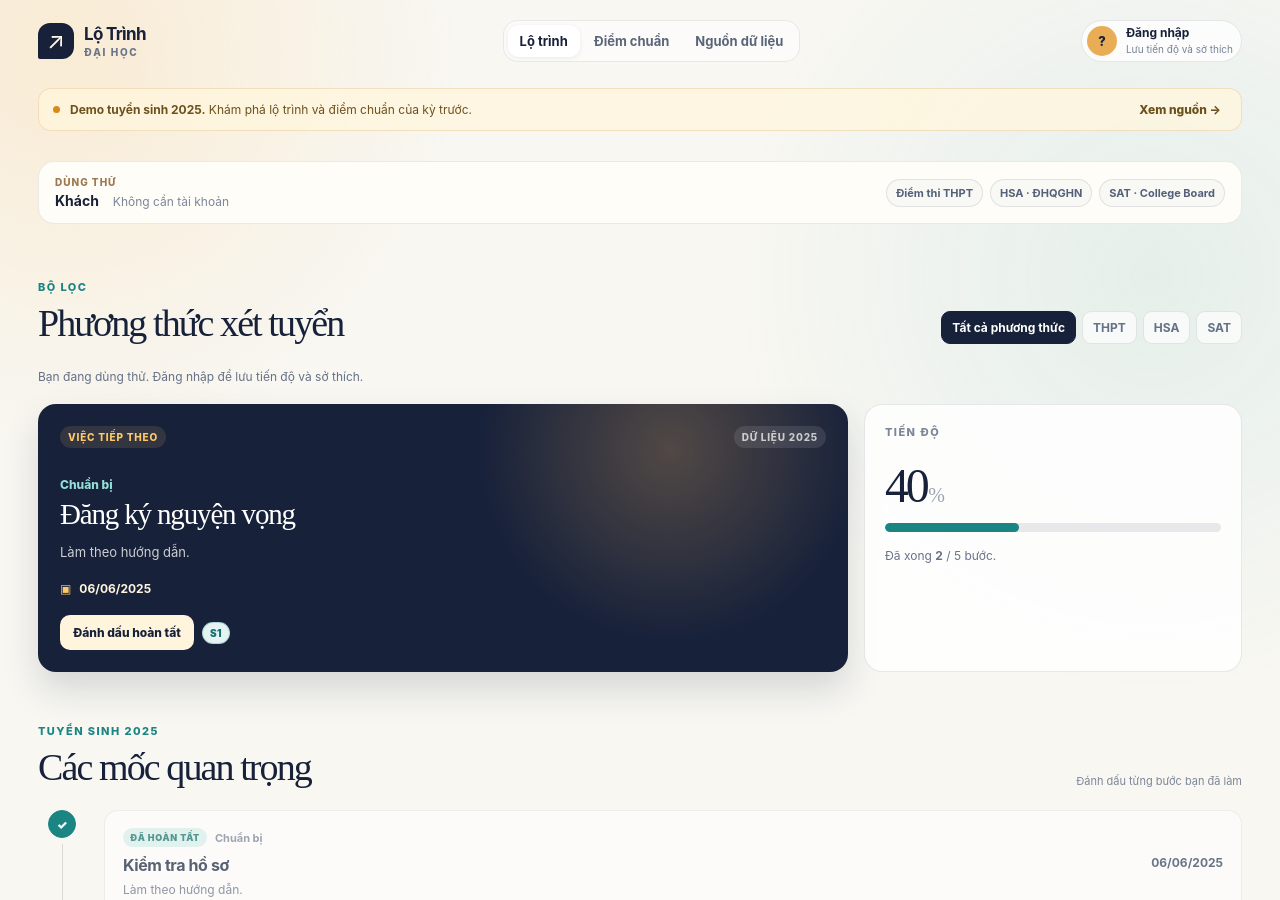
it: admissions demo flows › shows sources without irrelevant route filters and preserves the score view when filtering
The width and height of the screenshot is (1280, 900).
Click the button "Điểm chuẩn" at (632, 41), box [582, 25, 681, 57]
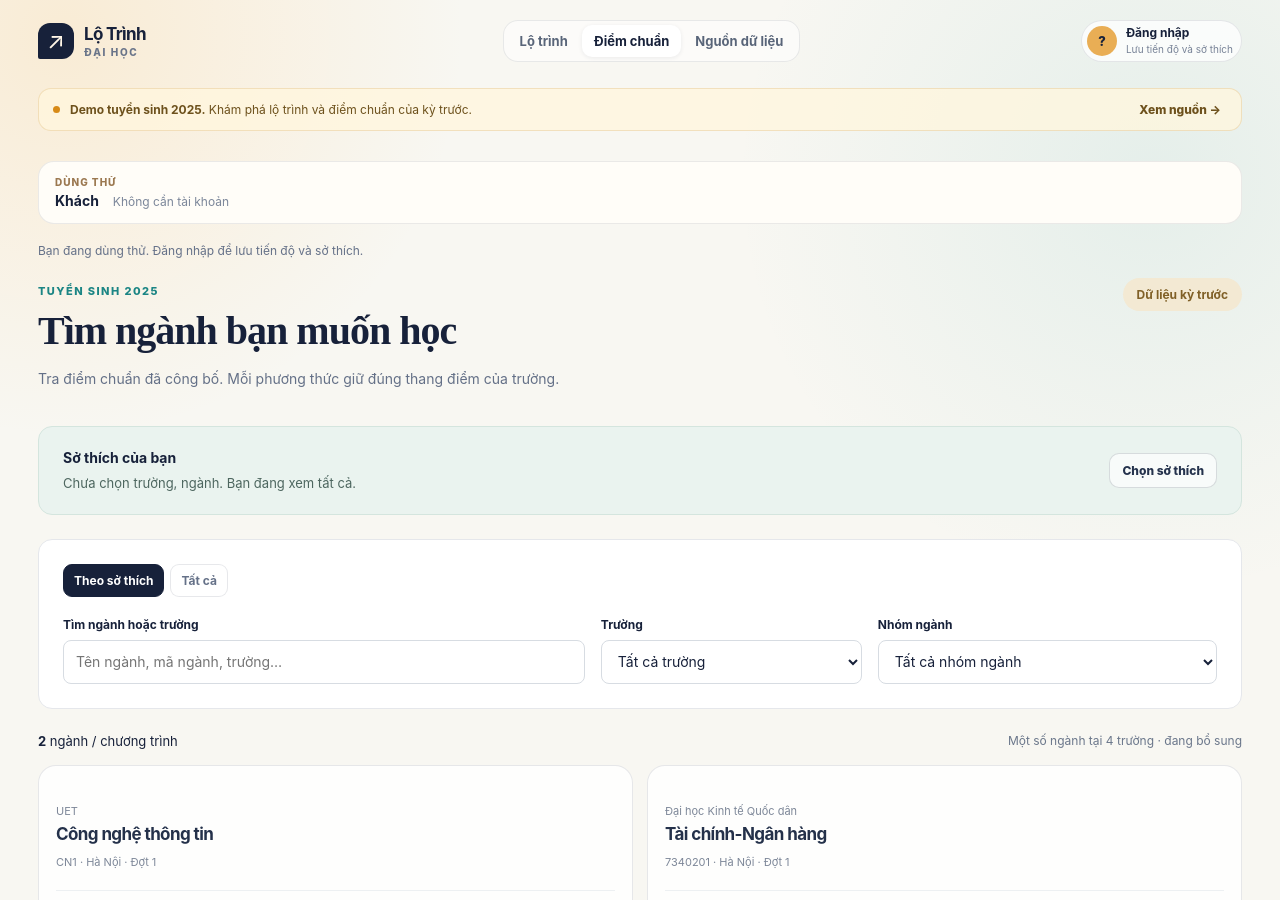
Click the button "Nguồn dữ liệu" at (739, 41), box [683, 25, 795, 57]
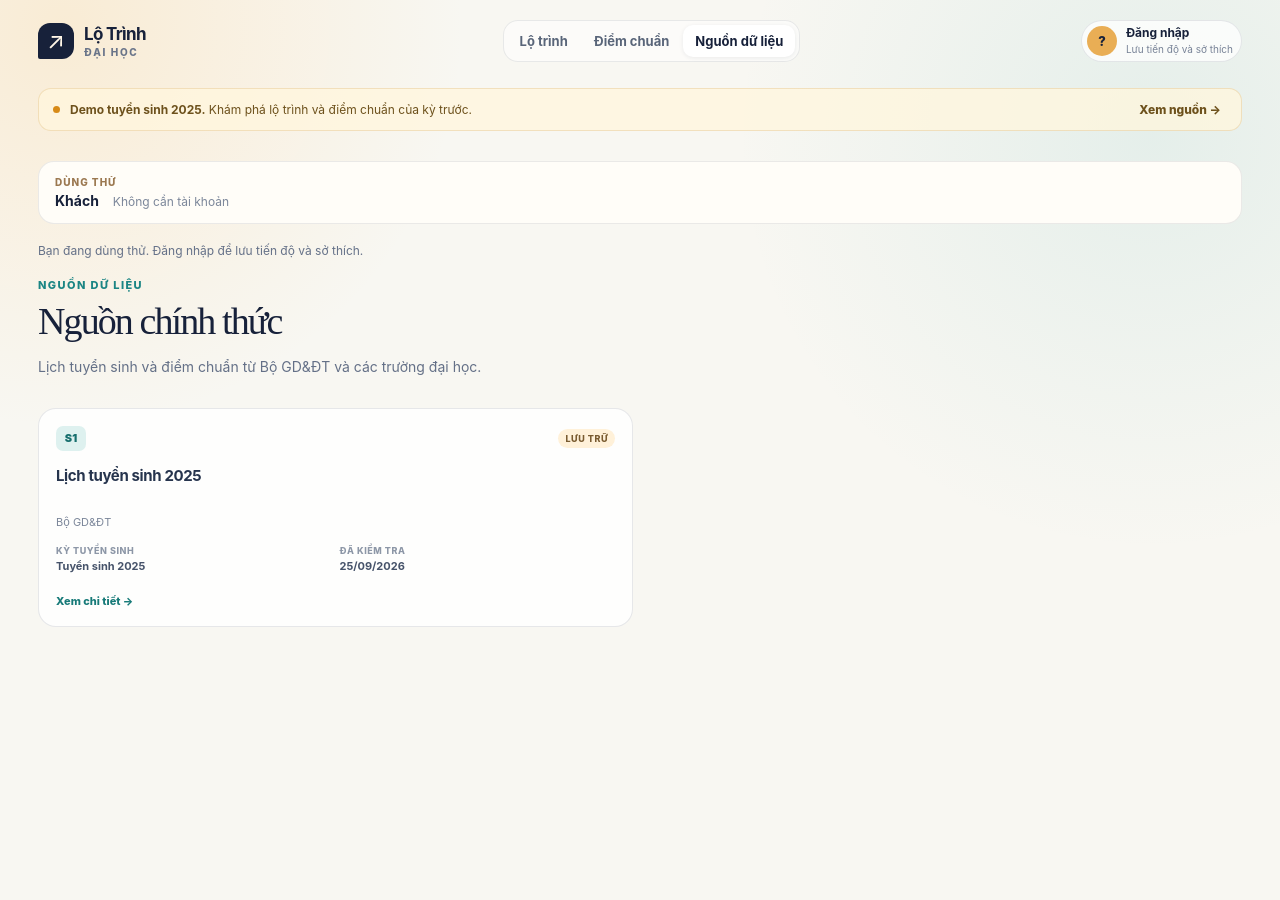
Expected: the number of elements with class "source-card" is 1, [38, 408, 633, 627]
Expected: the element with class "filter-set" is gone
